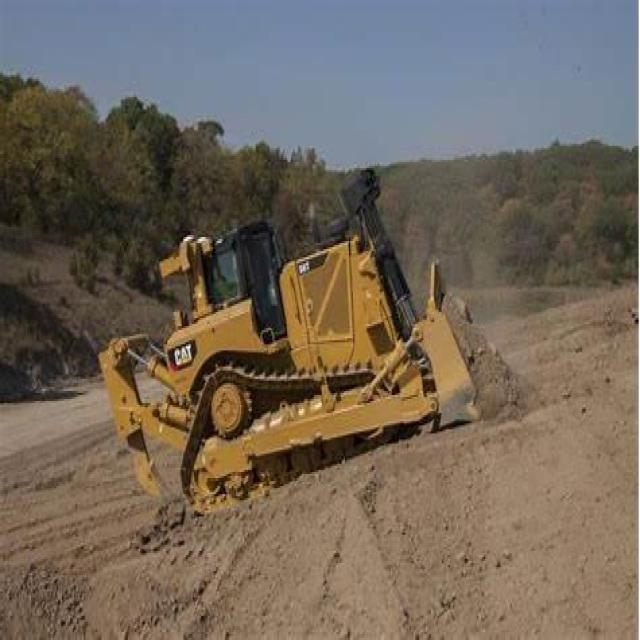buldozerpayloadergrader: (77, 187, 521, 522)
